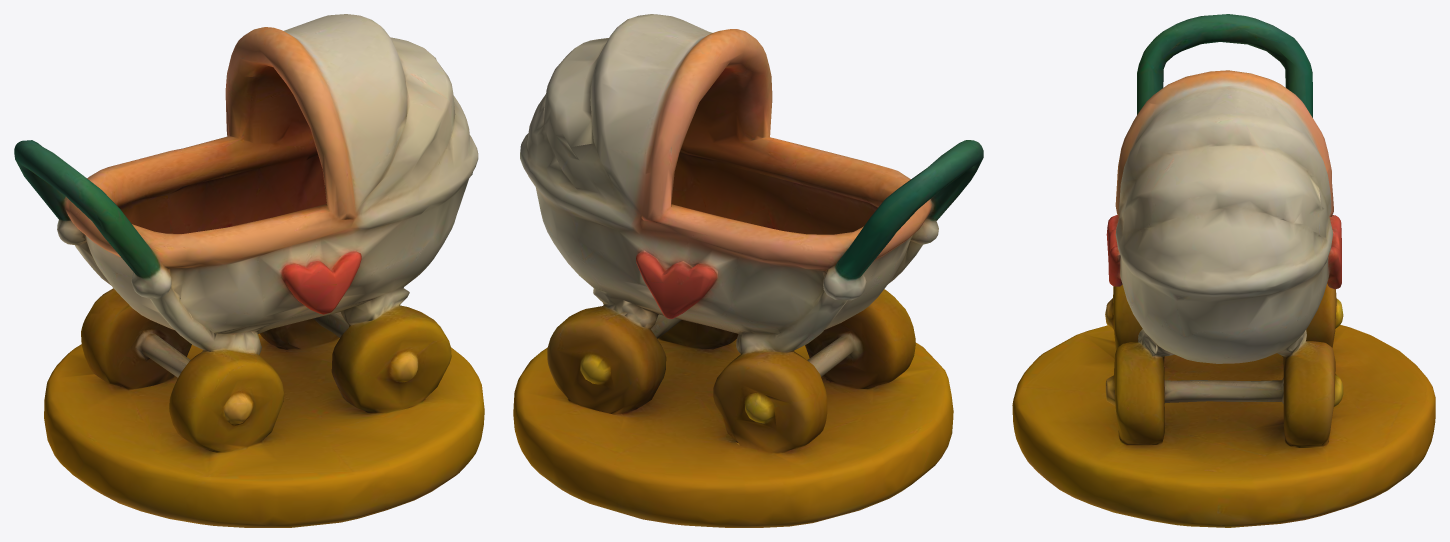
Rendered from icon-childbirth.glb.
3 views of the same model, side by side, from view 1: azimuth 30°, elevation 25°; view 2: azimuth 150°, elevation 25°; view 3: azimuth 270°, elevation 25° (orthographic). The views are drawn at different scales.
Parts seen in each view (by area): view 1: Mesh_0; view 2: Mesh_0; view 3: Mesh_0.
Boxes of the visible parts, <box> form: Mesh_0: <box>14,14,484,527</box>; Mesh_0: <box>513,14,983,527</box>; Mesh_0: <box>1012,14,1435,527</box>.
Size of the model in its own units: 2 by 1.8 by 1.79.
1 material, 1 textured.
